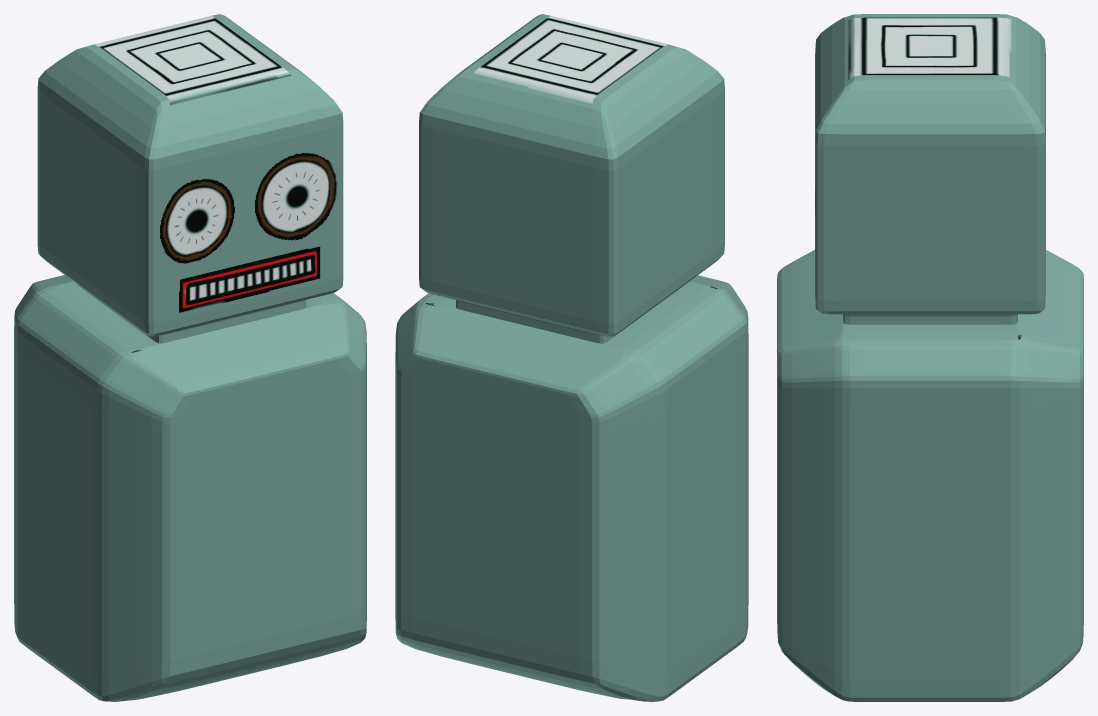
Rendered from player.glb.
3 views of the same model, side by side, from view 1: azimuth 30°, elevation 25°; view 2: azimuth 150°, elevation 25°; view 3: azimuth 270°, elevation 25° (orthographic).
Parts seen in each view (by area): view 1: Cube; view 2: Cube; view 3: Cube.
Boxes of the visible parts, box(x1,y1,x2,y2) form: Cube: box(14, 14, 366, 701); Cube: box(395, 14, 748, 701); Cube: box(777, 14, 1083, 701).
Size of the model in its own units: 1.58 by 3.31 by 1.56.
1 material, 1 textured.
